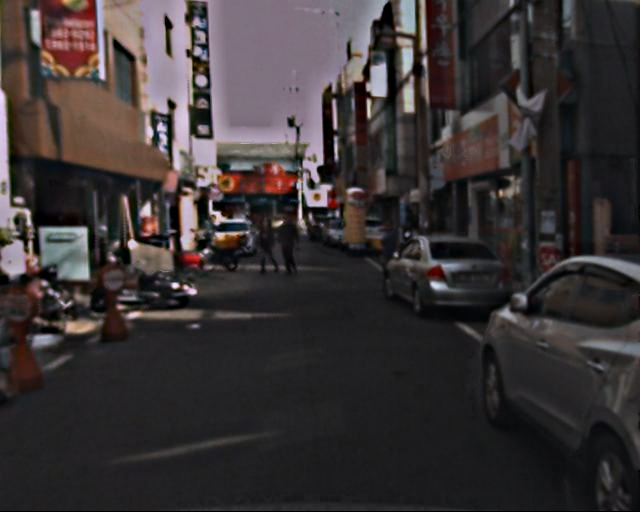person: (275, 215, 302, 288), (376, 219, 402, 294), (257, 216, 280, 279)
